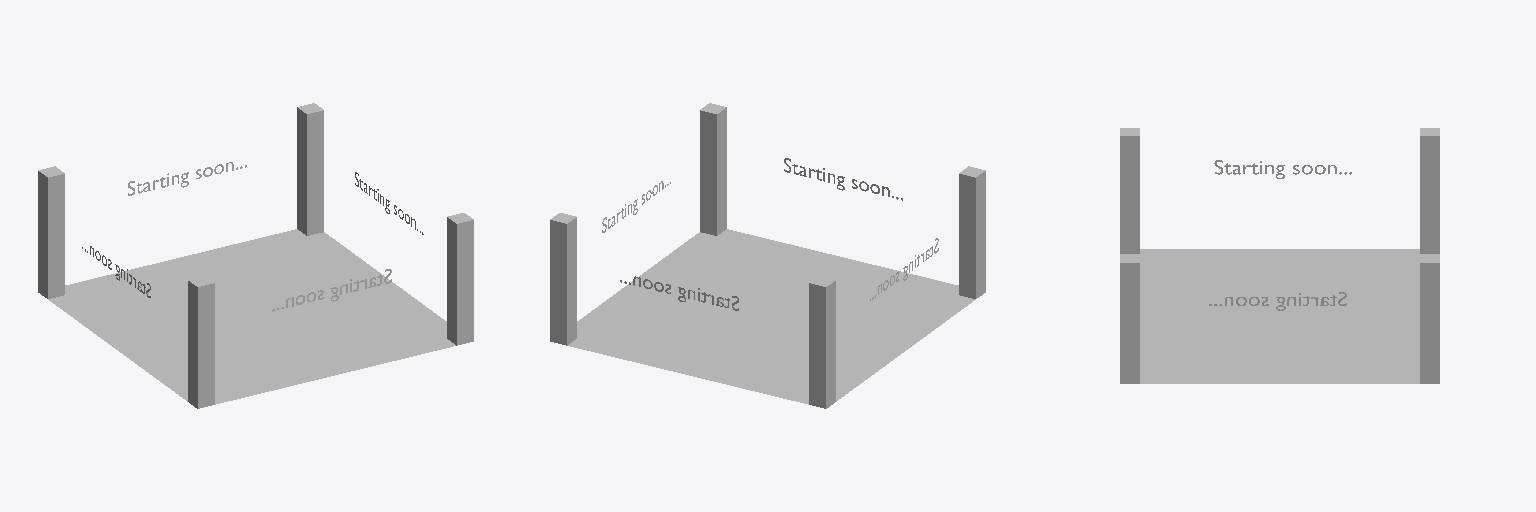
The model's file is waitlobby.obj.
3 renders of one model, left to right at view 1: azimuth 30°, elevation 25°; view 2: azimuth 150°, elevation 25°; view 3: azimuth 270°, elevation 25°, orthographic.
Visible parts, largest first — view 1: Plane; view 2: Plane; view 3: Plane, Text.
Boxes of the visible parts, <box> form: Plane: <box>38,103,473,408</box>; Plane: <box>550,103,985,408</box>; Plane: <box>1120,128,1439,383</box>; Text: <box>1214,160,1351,178</box>.
Size of the model in its own units: 13.72 by 5.78 by 13.72.